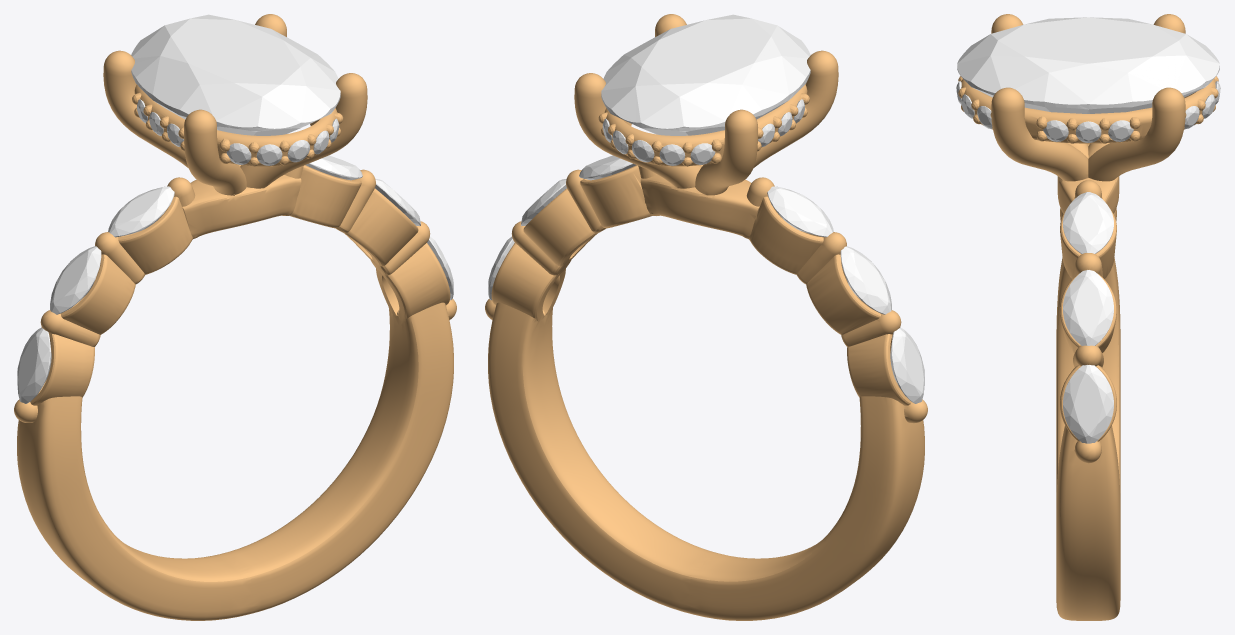
3 renders of one model, left to right at view 1: azimuth 30°, elevation 25°; view 2: azimuth 150°, elevation 25°; view 3: azimuth 270°, elevation 25°, orthographic.
Bounding box in the file's own units: 2.42 × 2.92 × 1.26.
